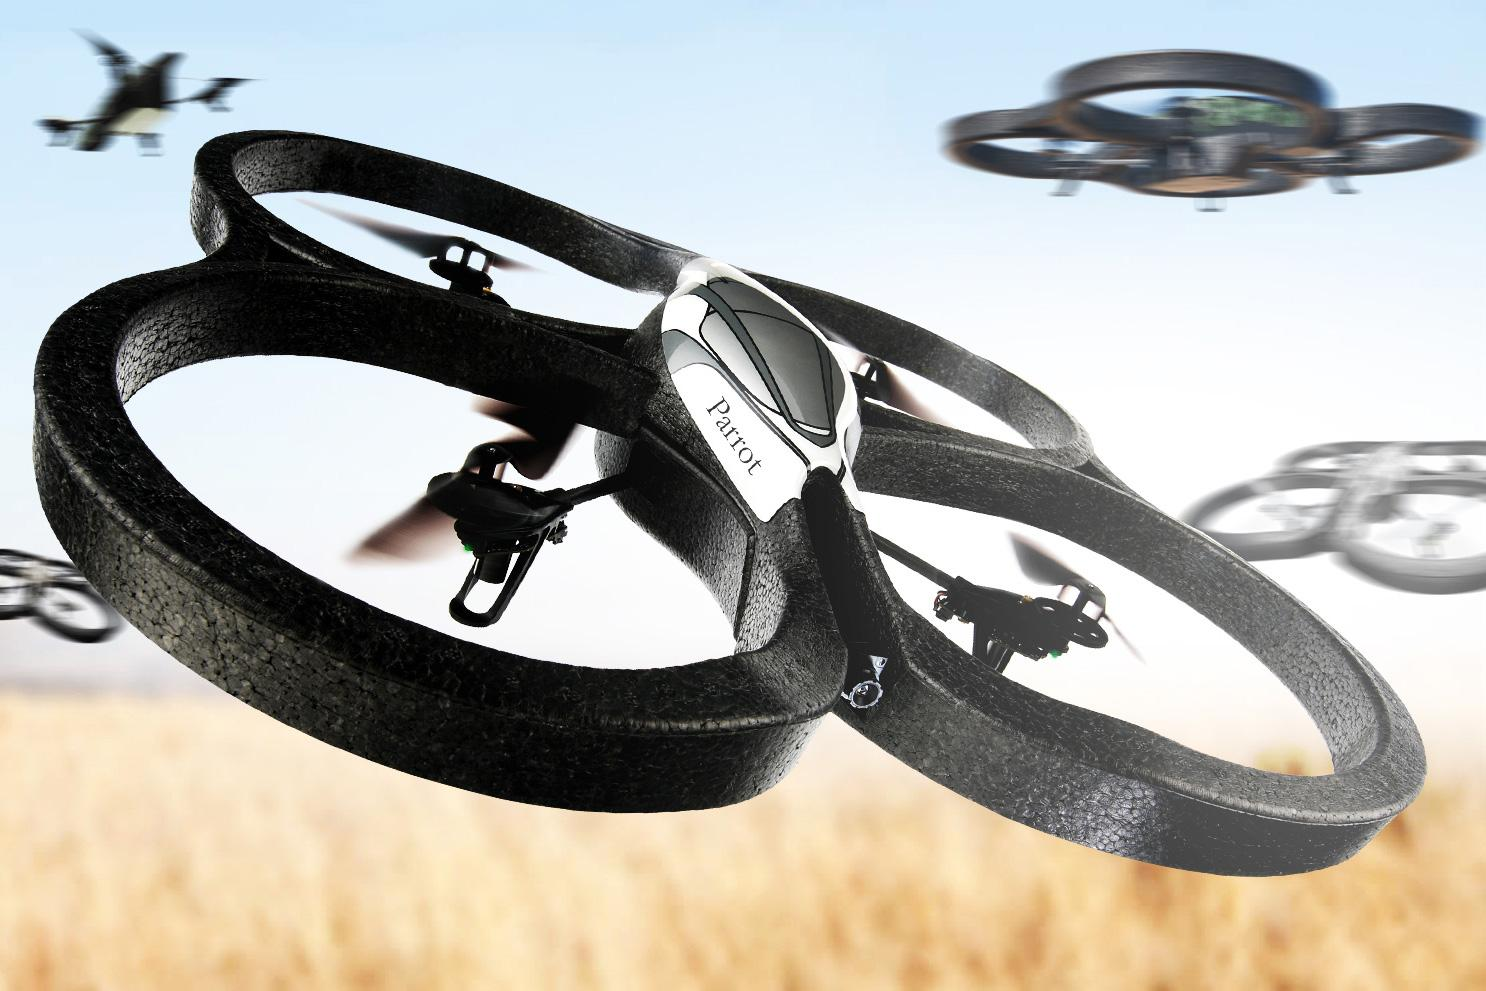drone: (46, 132, 1429, 878), (939, 50, 1486, 215), (1178, 440, 1486, 596), (36, 31, 252, 158), (1, 547, 127, 644)
